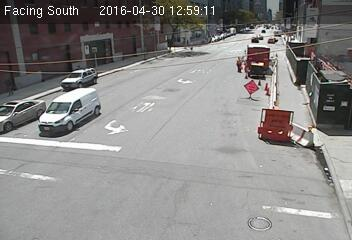neg: (163, 106, 182, 132), (276, 99, 290, 117)
pos: (232, 54, 245, 71)
